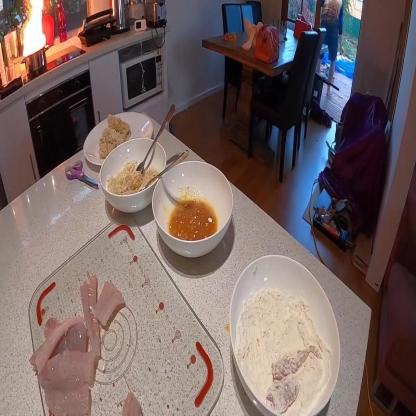fire: (19, 0, 49, 59)
